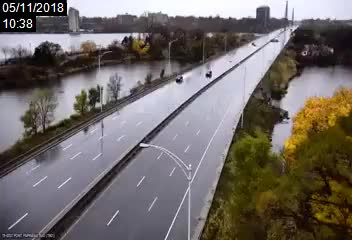personal_car: (174, 75, 184, 83), (203, 69, 212, 77)
